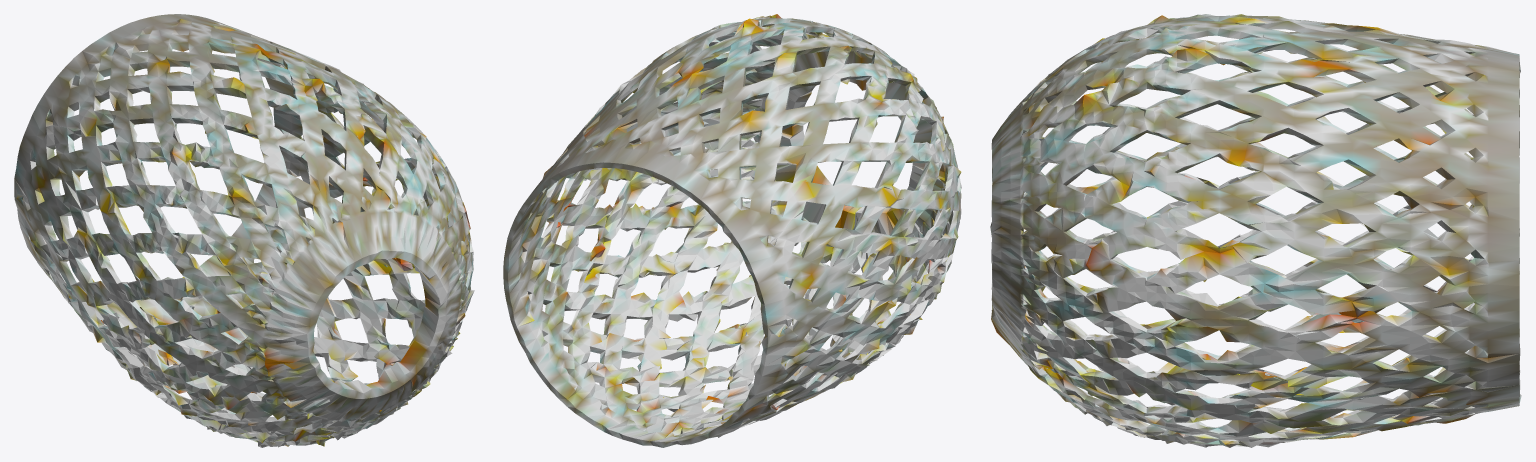
Rendered from lamp_shade_14_final400.obj.
3 views of the same model, side by side, from view 1: azimuth 30°, elevation 25°; view 2: azimuth 150°, elevation 25°; view 3: azimuth 270°, elevation 25° (orthographic). The views are drawn at different scales.
Bounding box in the file's own units: 1.22 × 1.23 × 1.5.
